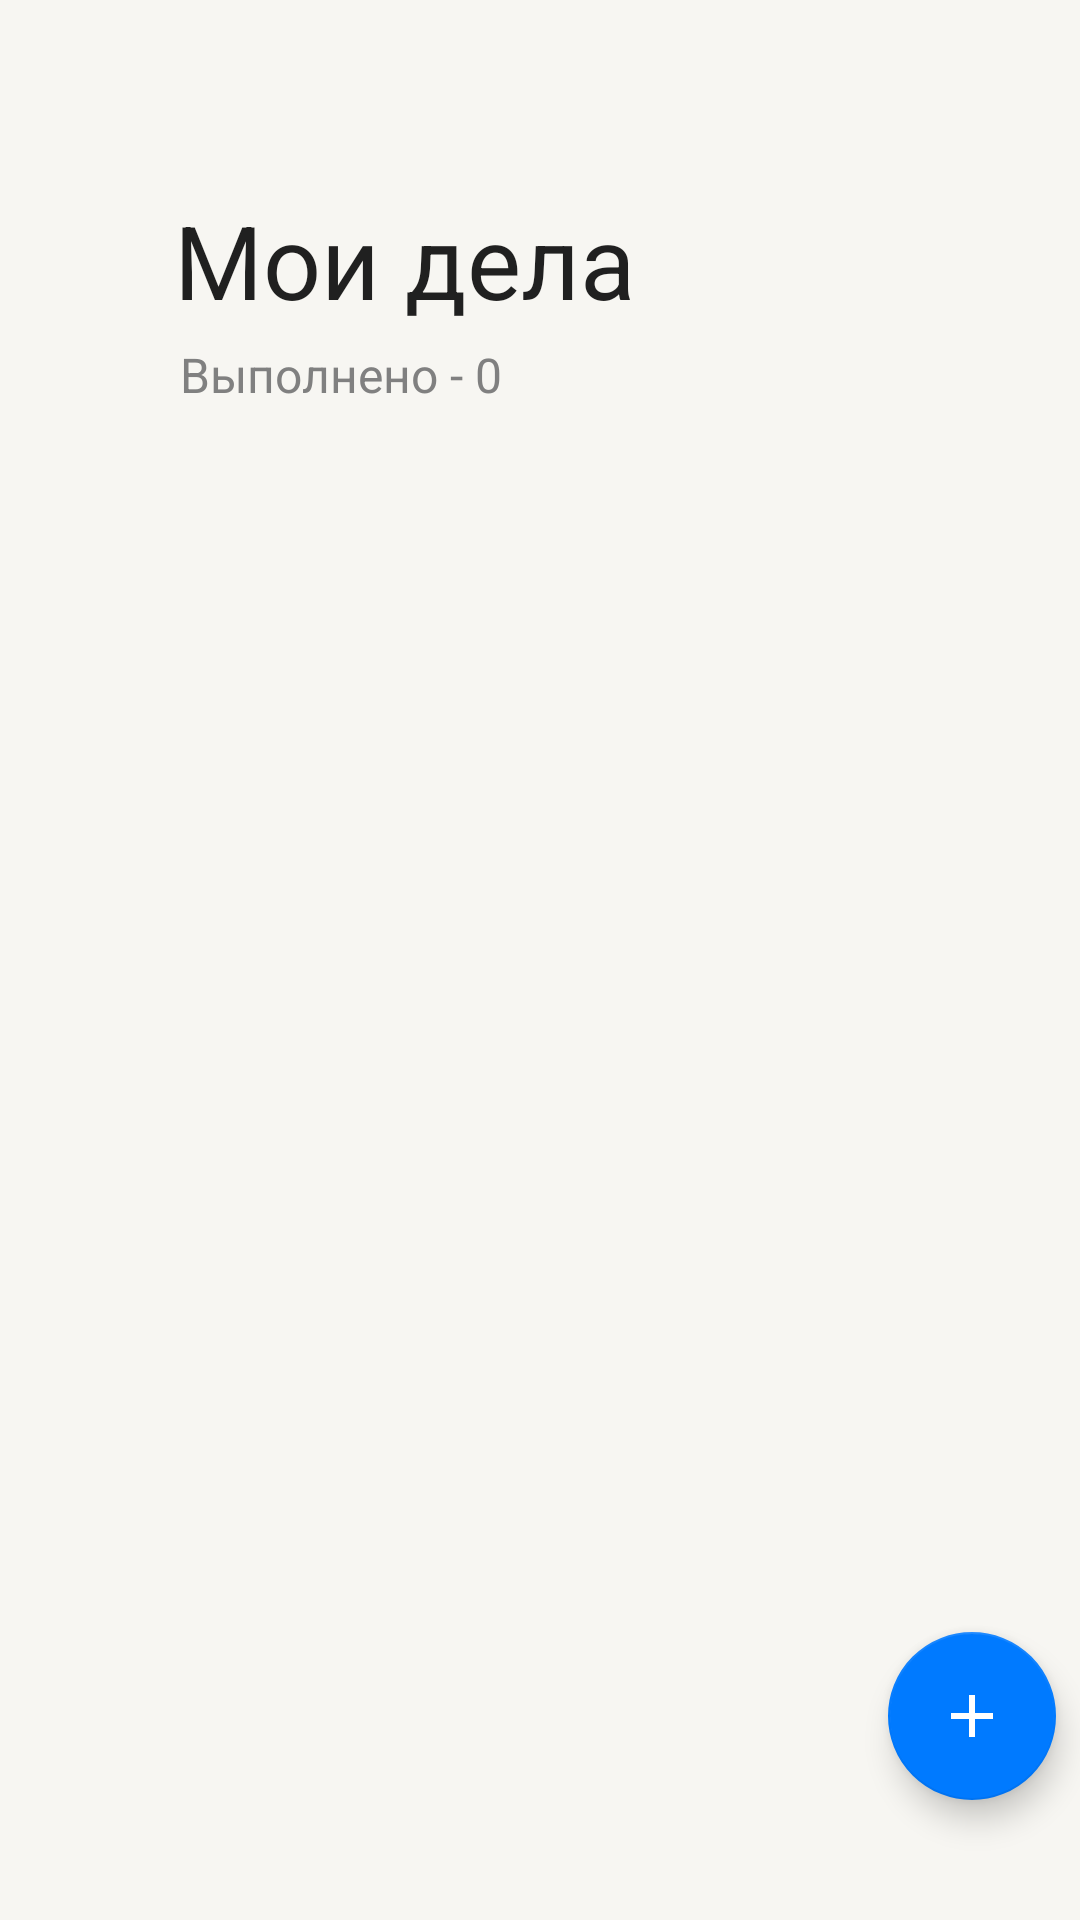

Locate icon controls on the screen. Image size 1080px×1920px, boxes as (x1=x1, y1=y1, x2=x2, y2=y2).
Create new task: (x1=888, y1=1632, x2=1056, y2=1800)
